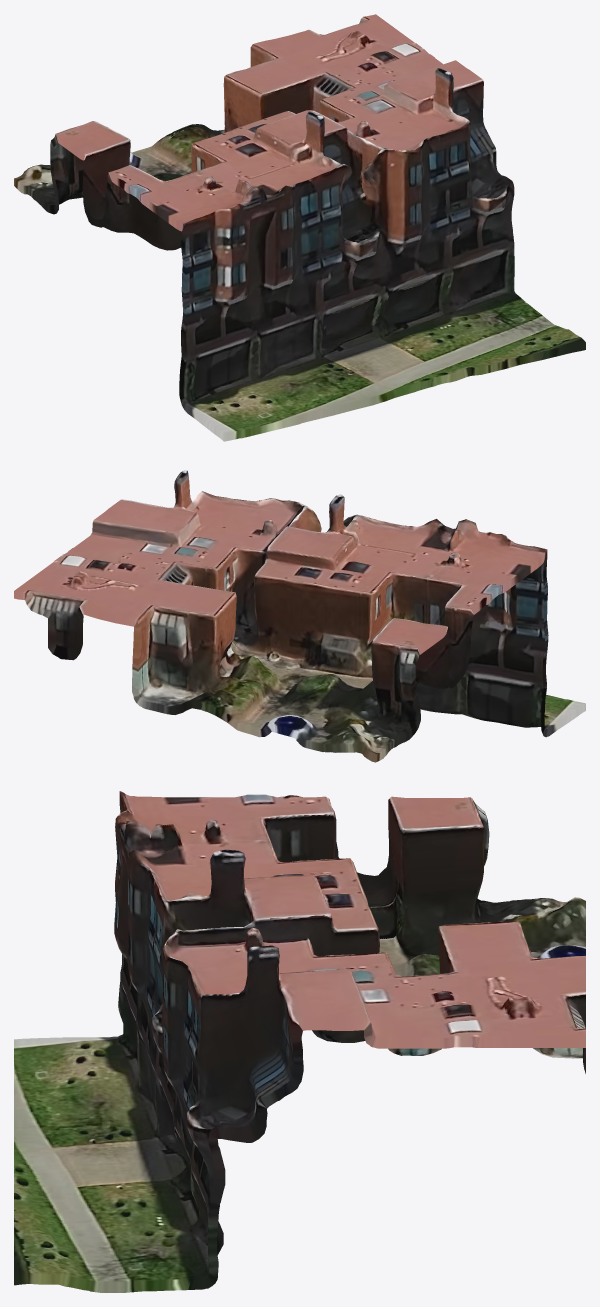
Rendered from z20-167779-405212-h0-yup-uvflip-v3-world.glb.
The picture shows the model from 3 angles, top to bottom: view 1: azimuth 30°, elevation 25°; view 2: azimuth 150°, elevation 25°; view 3: azimuth 270°, elevation 25°; orthographic projection. The views are drawn at different scales.
Size of the model in its own units: 30.16 by 18.36 by 30.32.
1 material, 1 textured.
